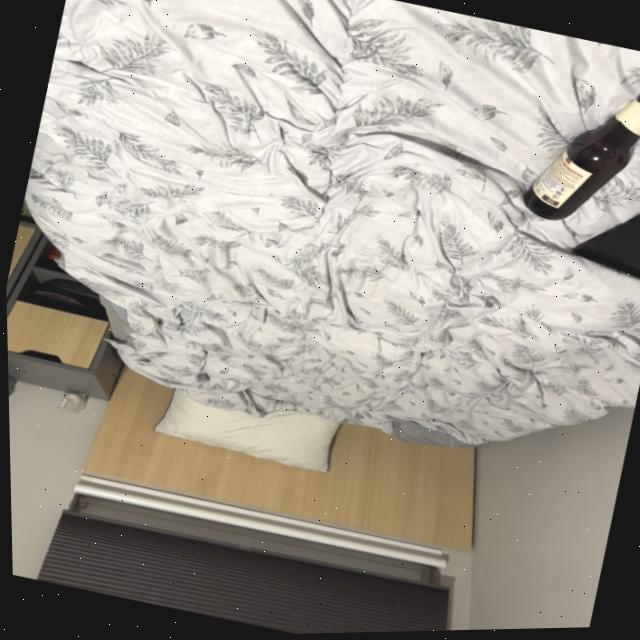beer: (510, 55, 640, 248)
